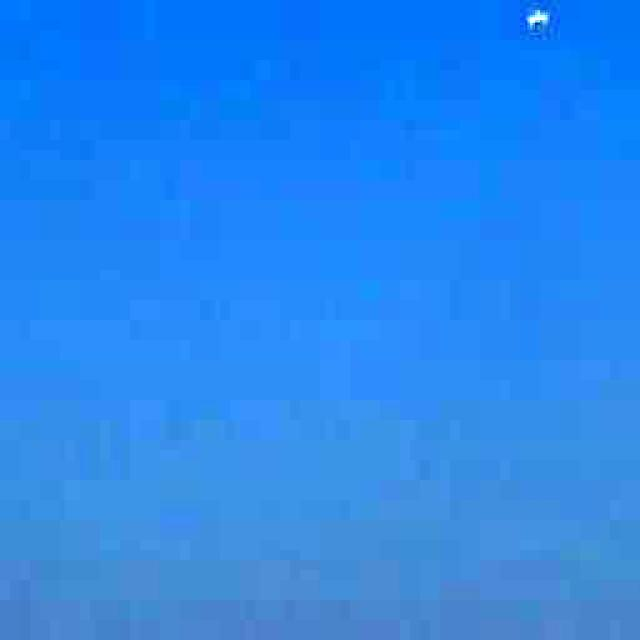bird: (491, 0, 576, 60)
